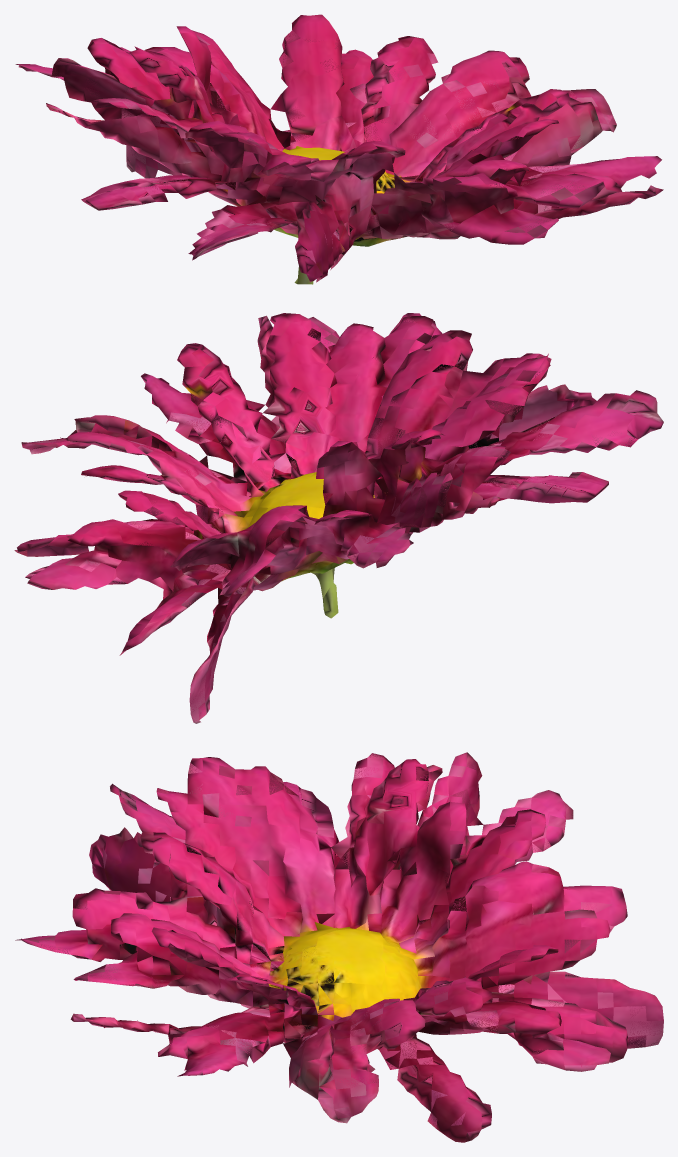
3 renders of one model, top to bottom at view 1: azimuth 30°, elevation 25°; view 2: azimuth 150°, elevation 25°; view 3: azimuth 270°, elevation 25°, orthographic. The views are drawn at different scales.
Visible parts, largest first — view 1: a026f13c; view 2: a026f13c; view 3: a026f13c.
Part boxes in pixels (x1=…): a026f13c: x1=15, y1=14, x2=663, y2=284; a026f13c: x1=14, y1=313, x2=663, y2=723; a026f13c: x1=15, y1=752, x2=663, y2=1142.
Size of the model in its own units: 0.106 by 0.0442 by 0.1102.
1 material, 1 textured.
